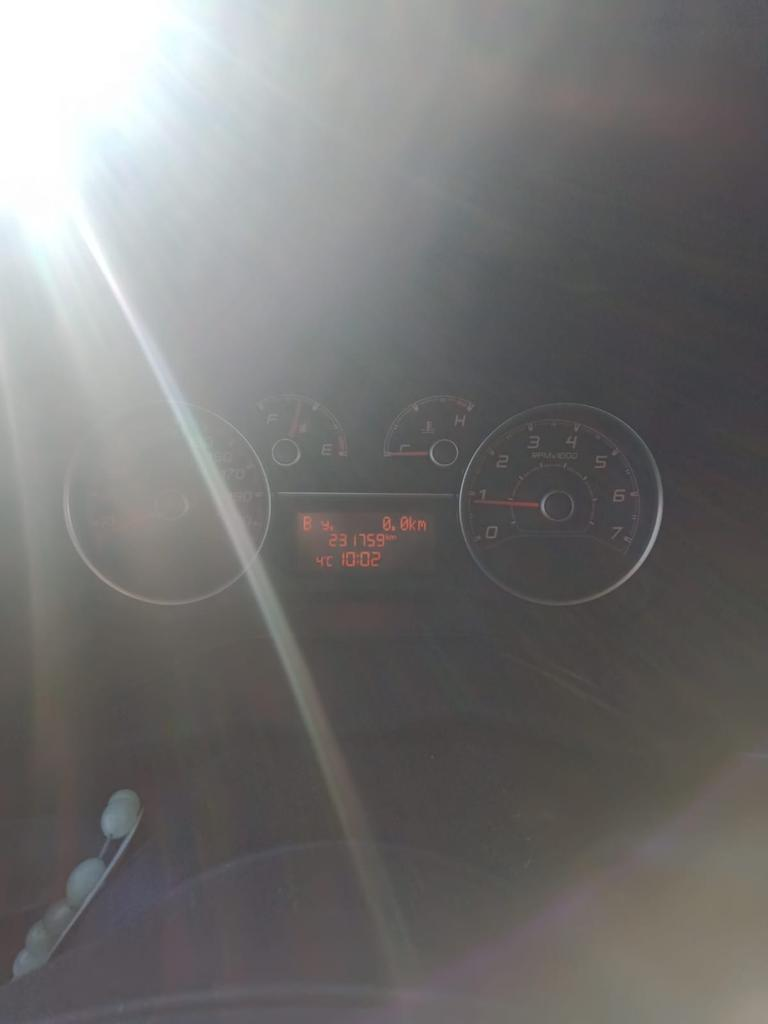,: (391, 525, 396, 531), (329, 526, 333, 531)
0: (345, 551, 355, 567), (382, 515, 391, 531), (360, 551, 369, 567), (399, 516, 408, 531)
1: (340, 551, 345, 567), (352, 534, 356, 546)
2: (370, 551, 381, 567), (328, 533, 337, 547)
3: (339, 533, 347, 546)
4: (315, 555, 323, 566)
5: (366, 533, 375, 547)
7: (358, 533, 366, 546)
9: (375, 533, 384, 547)
X: (303, 515, 312, 531), (416, 519, 426, 531), (409, 516, 416, 531), (320, 519, 329, 530), (326, 555, 333, 567), (356, 554, 359, 564)
odometer: (290, 508, 439, 577)
